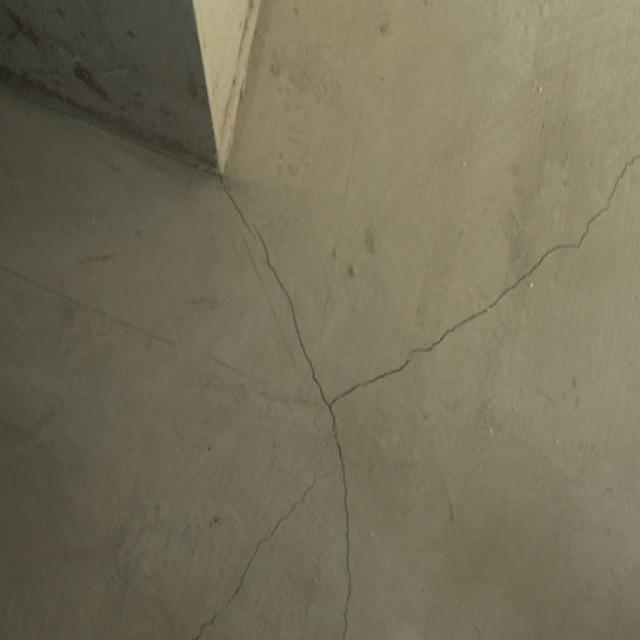Network: (203, 151, 640, 639)
